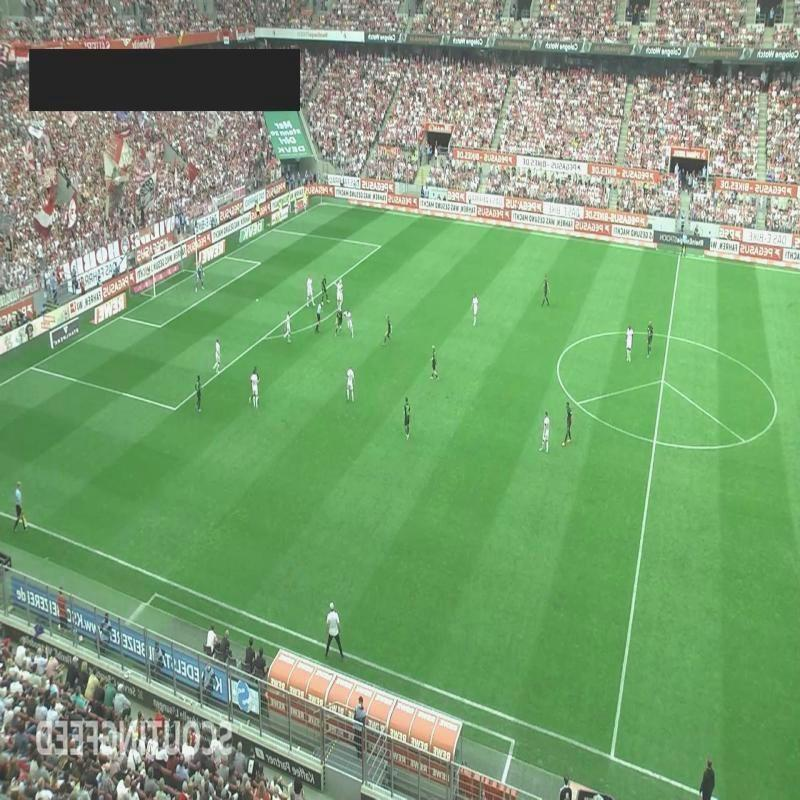1: (315, 195, 329, 209)
10: (326, 276, 340, 290)
11: (257, 330, 271, 344)
12: (168, 401, 182, 415)
13: (673, 249, 687, 262)
14: (661, 328, 676, 342)
15: (648, 435, 662, 449)
16: (604, 747, 620, 767)
2: (266, 222, 280, 236)
3: (218, 250, 232, 264)
4: (112, 310, 127, 324)
5: (24, 362, 38, 376)
7: (253, 257, 266, 271)
8: (153, 320, 167, 334)
9: (372, 238, 386, 252)
c: (552, 352, 568, 366), (768, 403, 782, 417)
